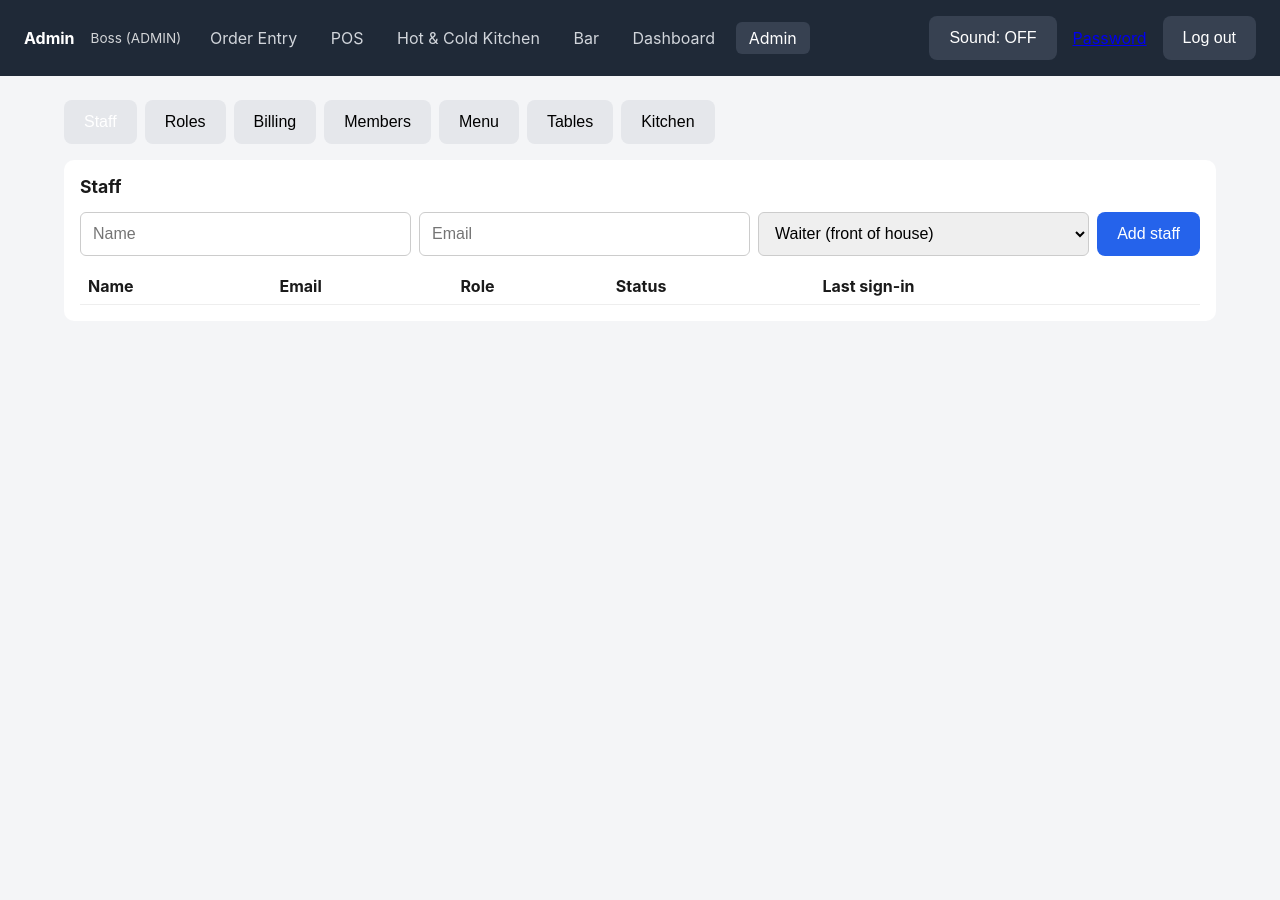
roles editor › creates a role with tick-boxes; STAFF can't be ticked
This screenshot has width=1280, height=900.
Step 1. Click the button "Roles" → (185, 122), box [145,100,226,144]
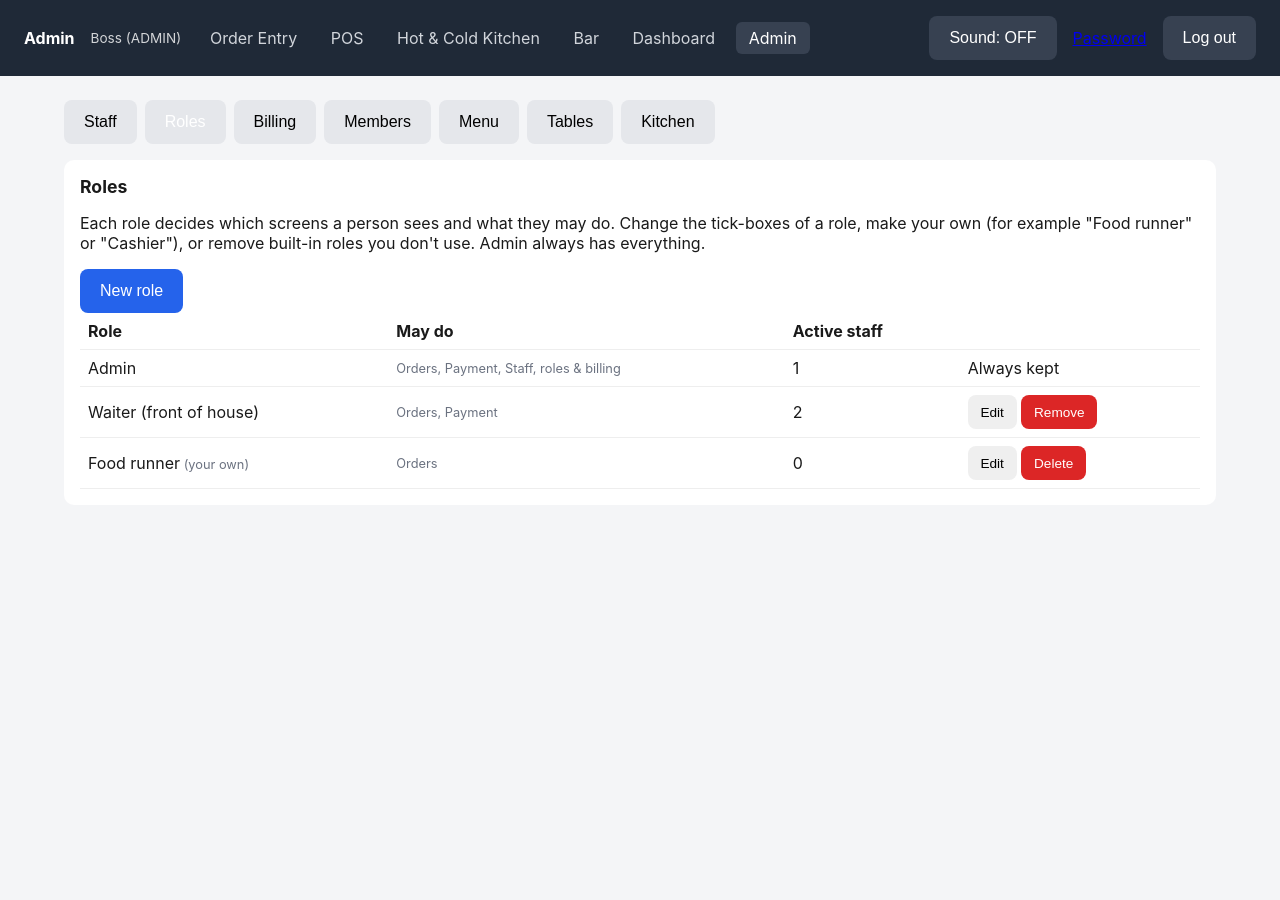
Step 2. Click the button "New role" → (132, 291), box [80,269,183,313]
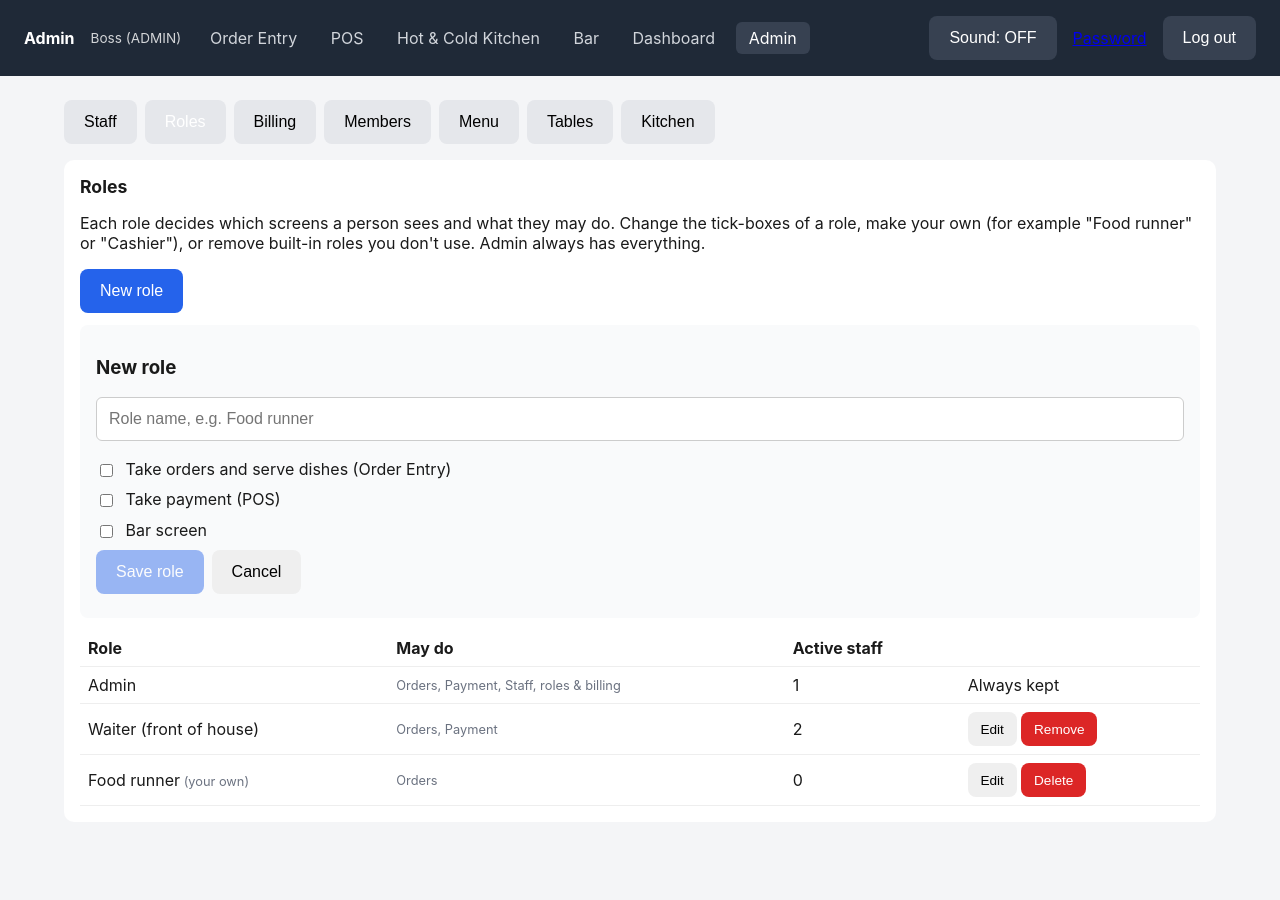
Step 3. Type "Cashier" into the field labelled "Role name" → (640, 419), box [96,397,1184,441]
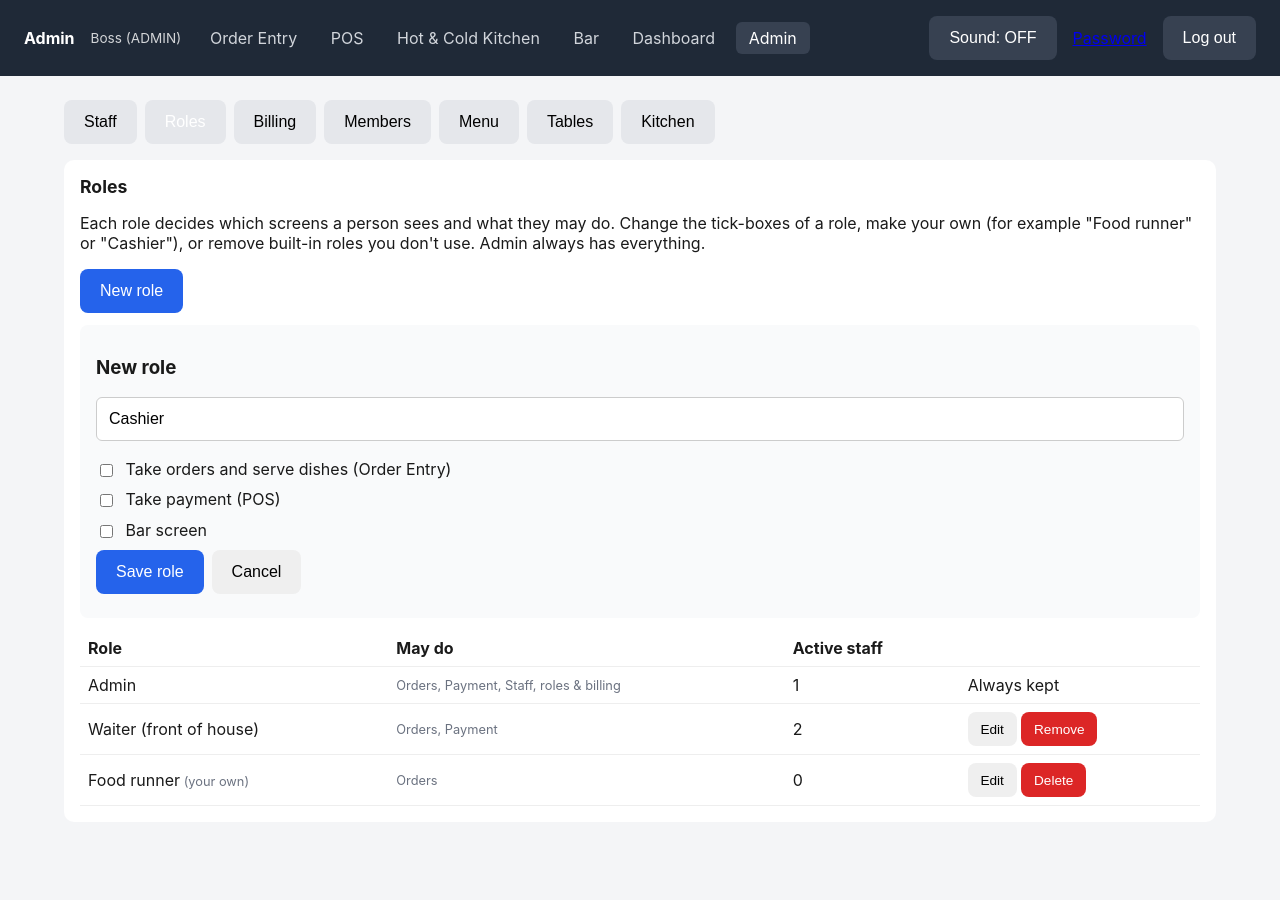
Step 4. Click the checkbox labelled "Take payment (POS)" → (106, 501), box [100,494,113,507]
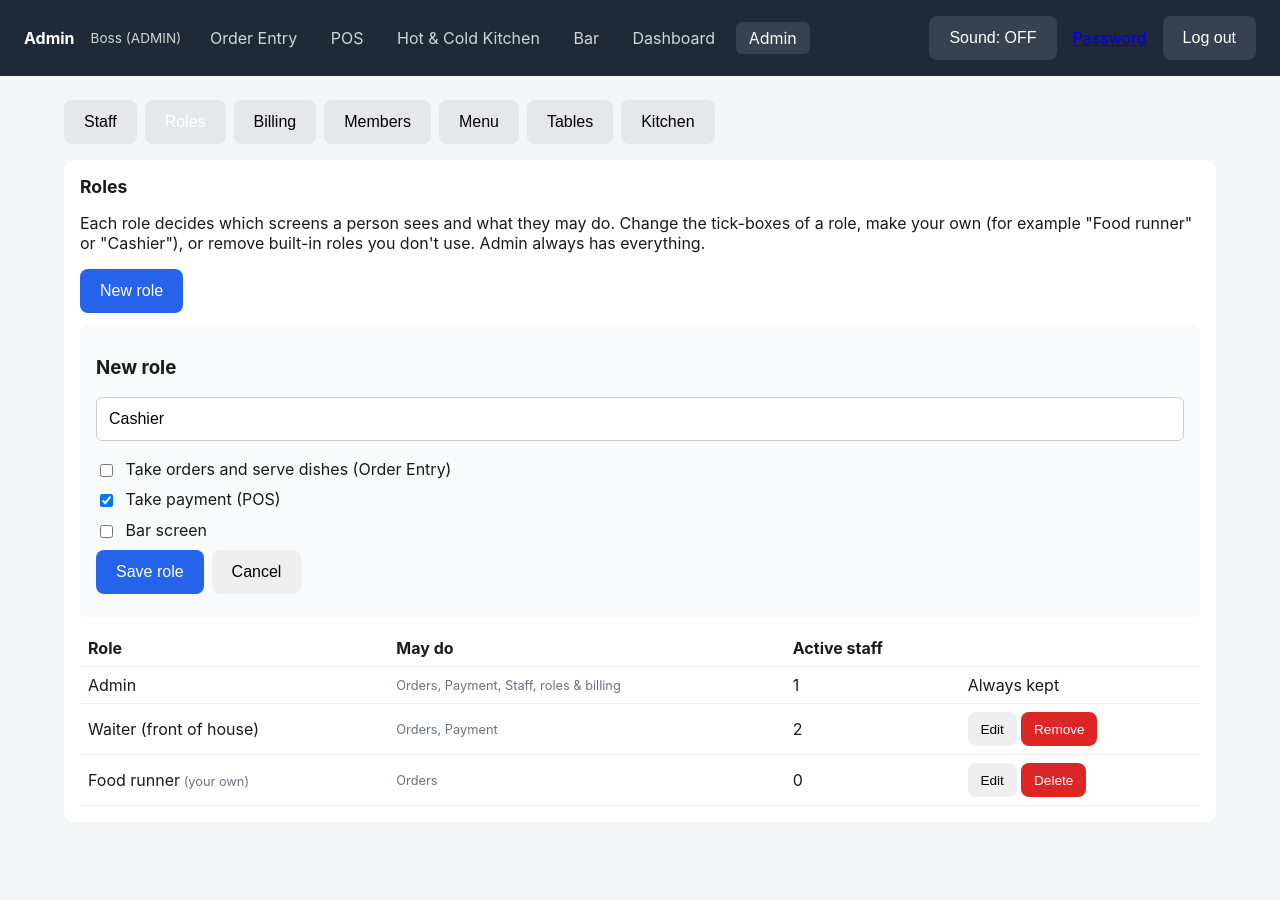
Step 5. Click the button "Save role" → (150, 572), box [96,550,204,594]
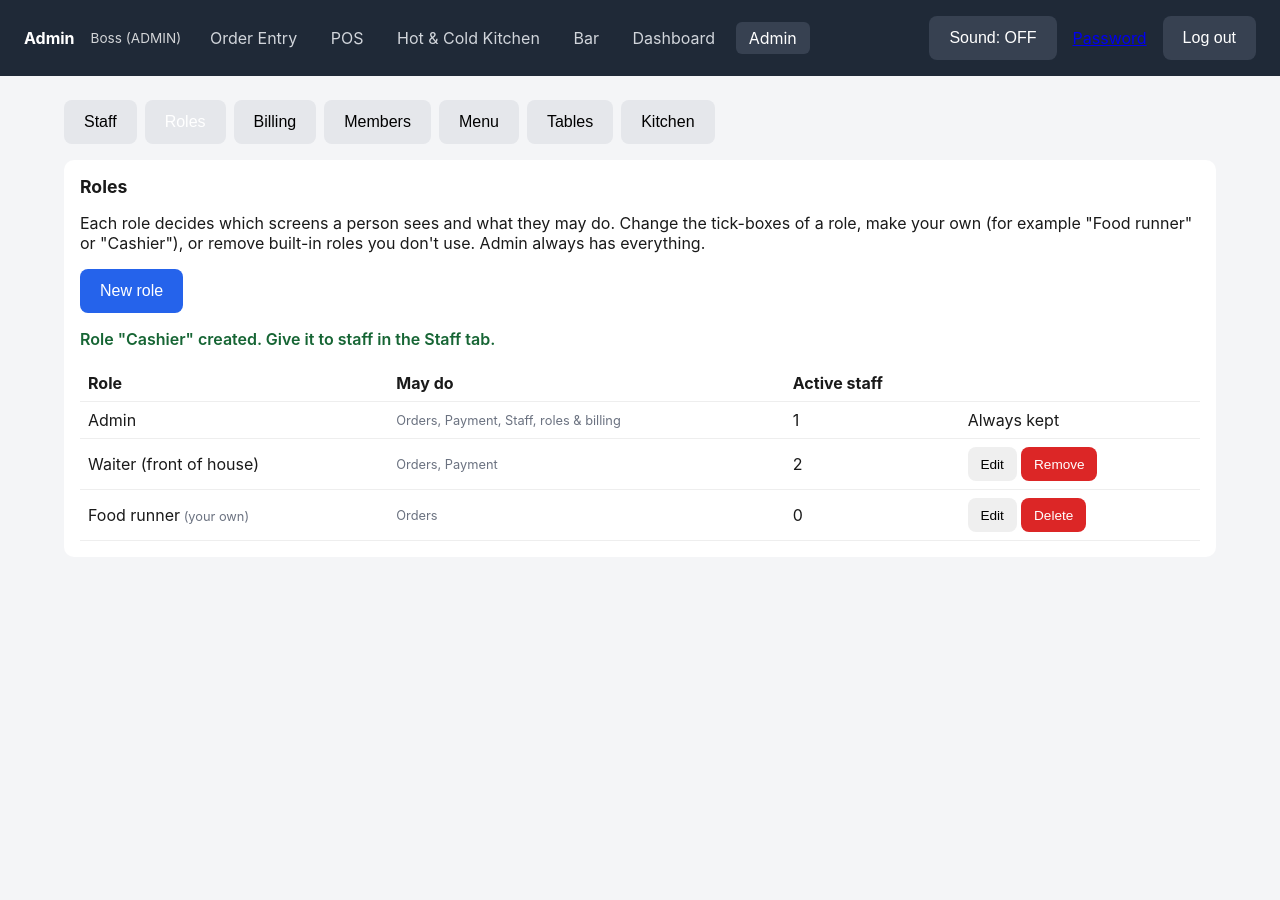
Expected: the text "Role \"Cashier\" created. Give it to staff in the Staff tab." is shown, [80,329,495,349]
